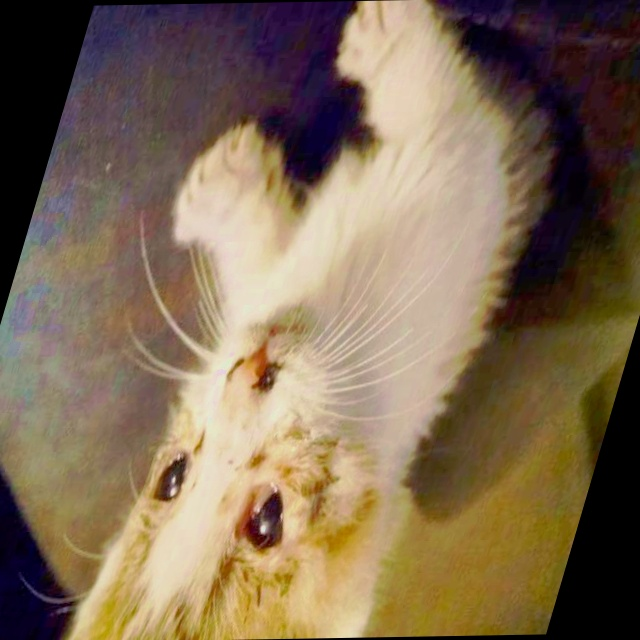eye_infection: (219, 479, 301, 548), (139, 447, 208, 501)
